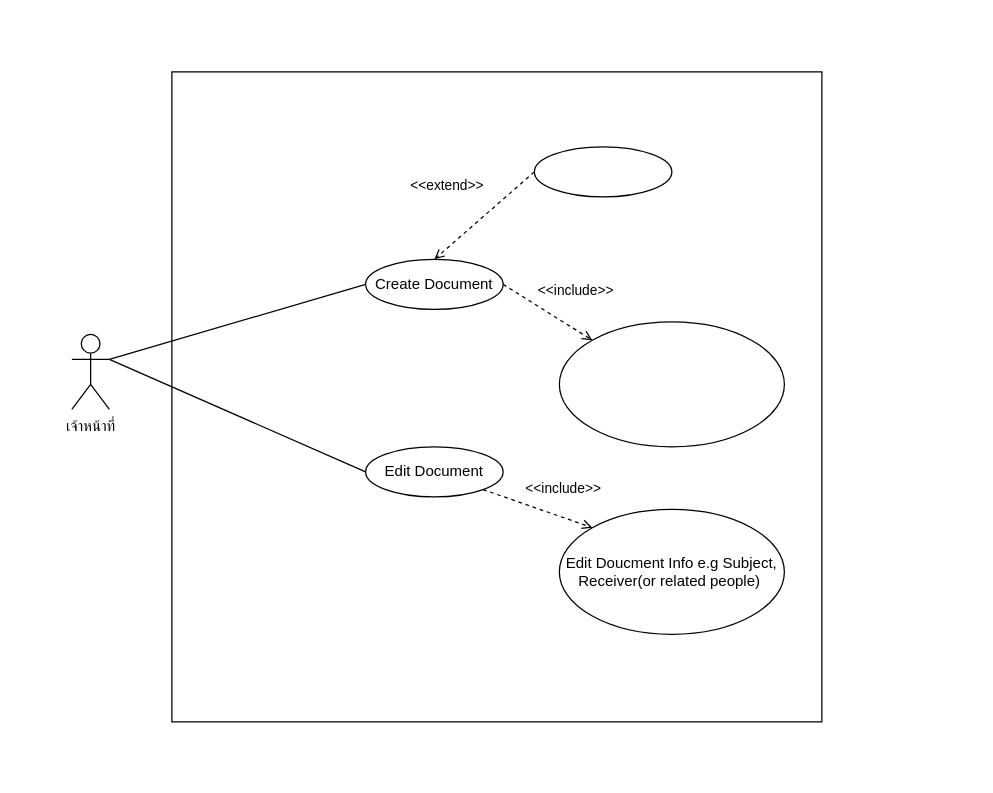
This 993x793 diagram has some shape labels left out. The centre of each missing label's shape, as x and y in pixels:
Enter Doucment Info e.g Subject, Receiver(or related people): the point at 671,384
Send Document: the point at 602,171
